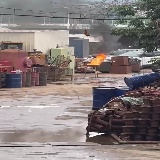fire: (86, 53, 106, 65)
